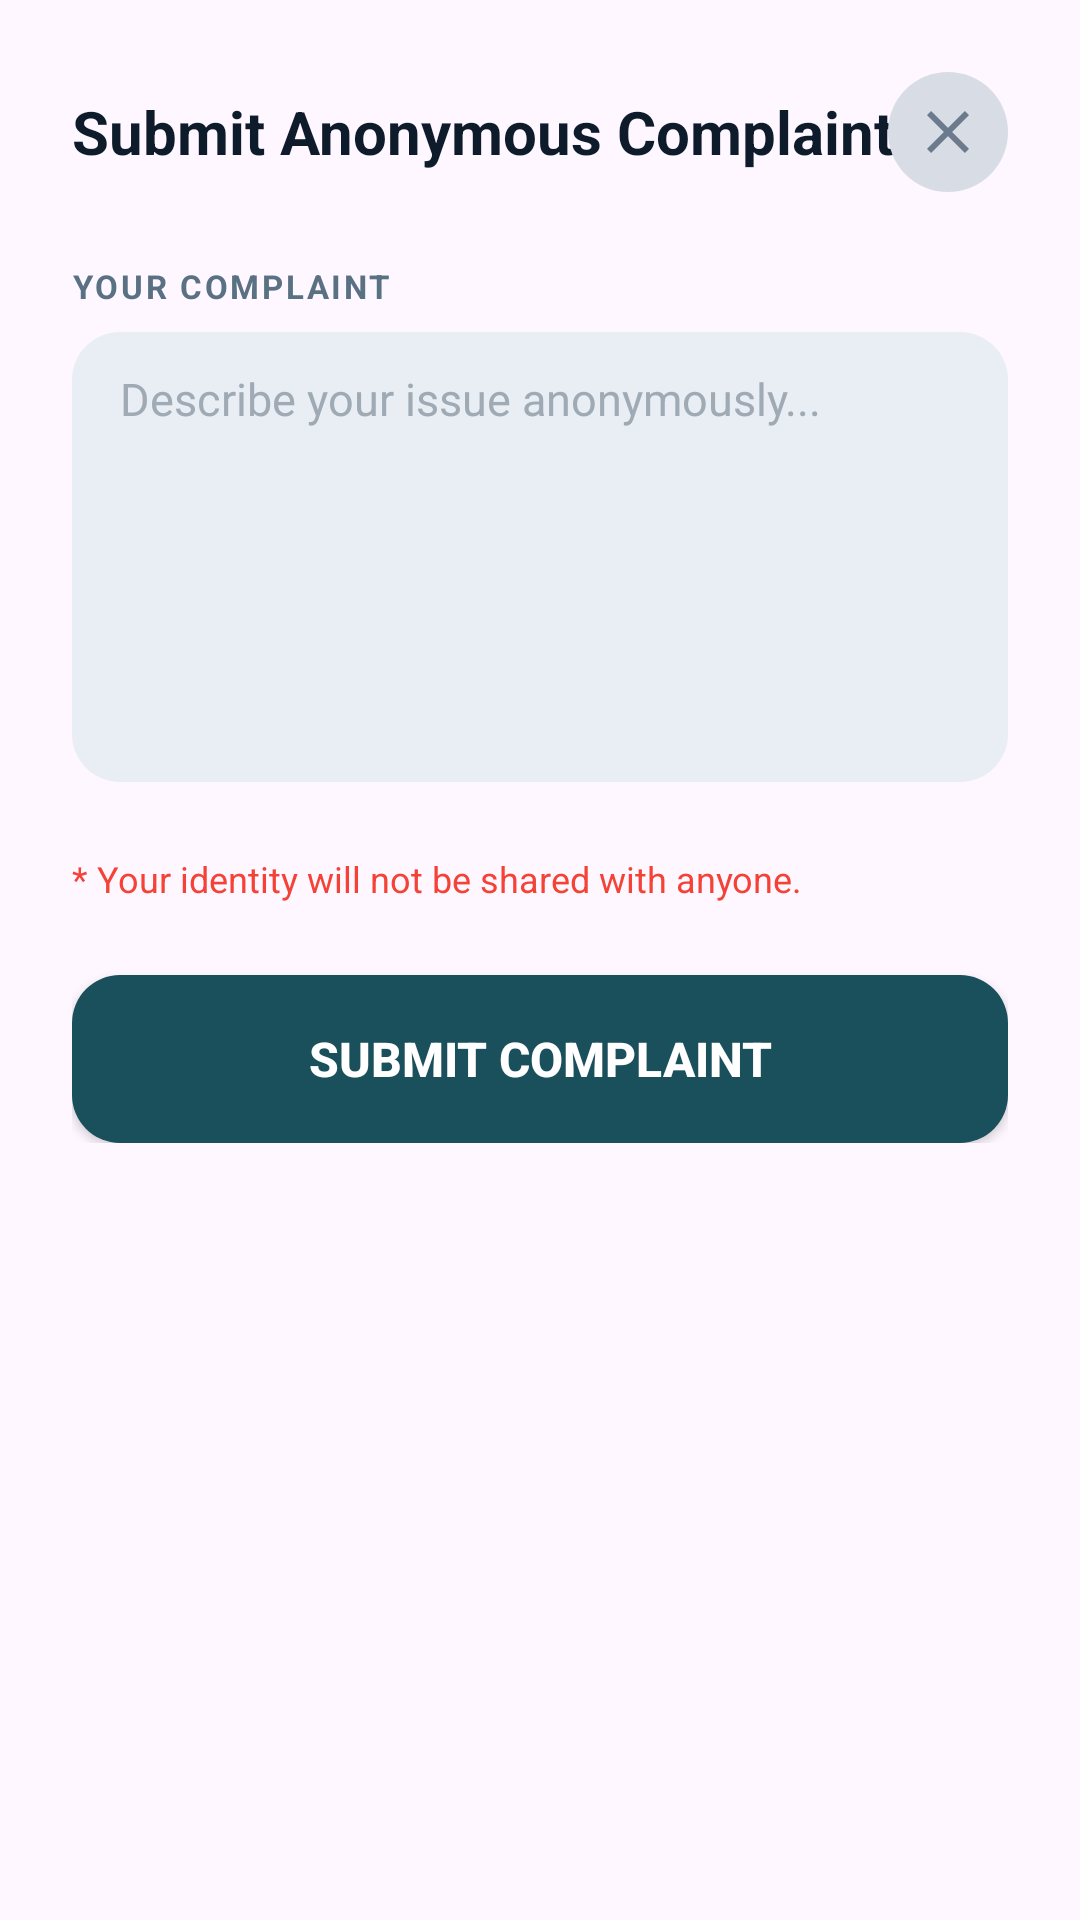

Where icons sit on this 1080 × 1920 app screen, as (x1, y1, x2, y2):
Close: (888, 72, 1008, 192)
